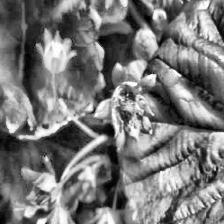Blossom Blight: (109, 82, 152, 137)
